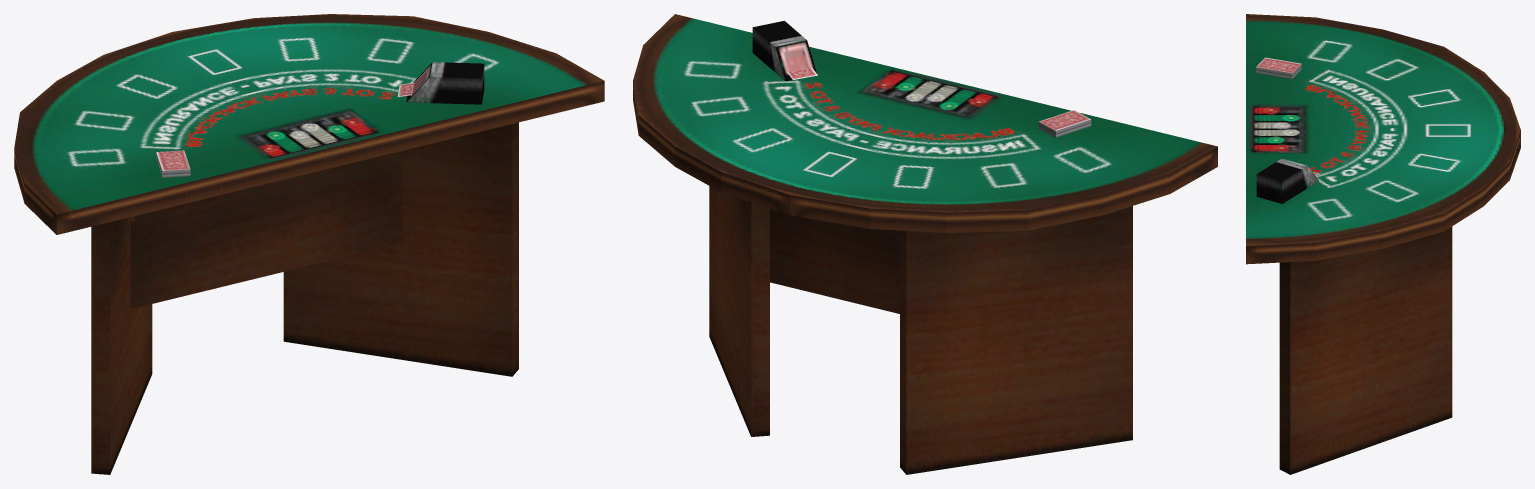
Rendered from blackjack4.fbx.
3 views of the same model, side by side, from view 1: azimuth 30°, elevation 25°; view 2: azimuth 150°, elevation 25°; view 3: azimuth 270°, elevation 25° (orthographic). The views are drawn at different scales.
Visible parts, largest first — view 1: mesh_0; view 2: mesh_0; view 3: mesh_0.
Boxes of the visible parts, x1,y1,x2,y2 form: mesh_0: (14,14,604,474); mesh_0: (633,14,1217,474); mesh_0: (1246,14,1520,474).
Size of the model in its own units: 196 by 109 by 98.05.
Materials: 1 (1 with a texture image).
